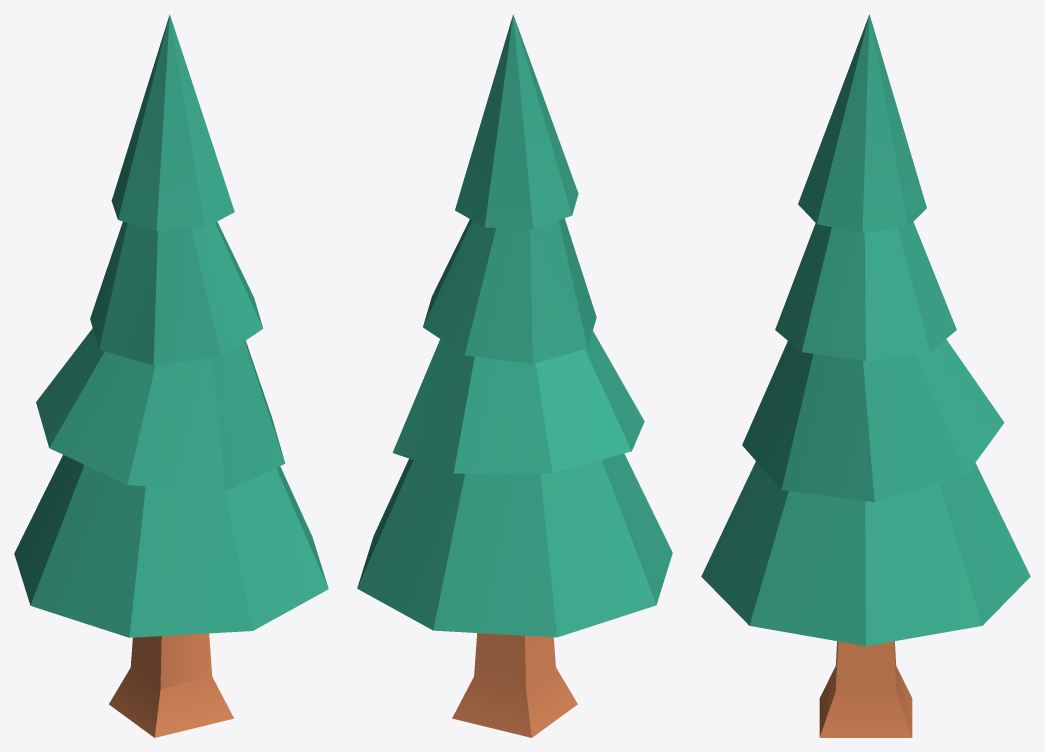
The model's file is treeCrooked_low.FBX.
The picture shows the model from 3 angles, left to right: view 1: azimuth 30°, elevation 25°; view 2: azimuth 150°, elevation 25°; view 3: azimuth 270°, elevation 25°; orthographic projection.
Visible parts, largest first — view 1: treeCrooked; view 2: treeCrooked; view 3: treeCrooked.
Boxes of the visible parts, left/top/right/bottom form: treeCrooked: left=14, top=14, right=328, bottom=737; treeCrooked: left=357, top=14, right=672, bottom=737; treeCrooked: left=701, top=14, right=1030, bottom=737.
Bounding box in the file's own units: 102 × 241 × 102.
